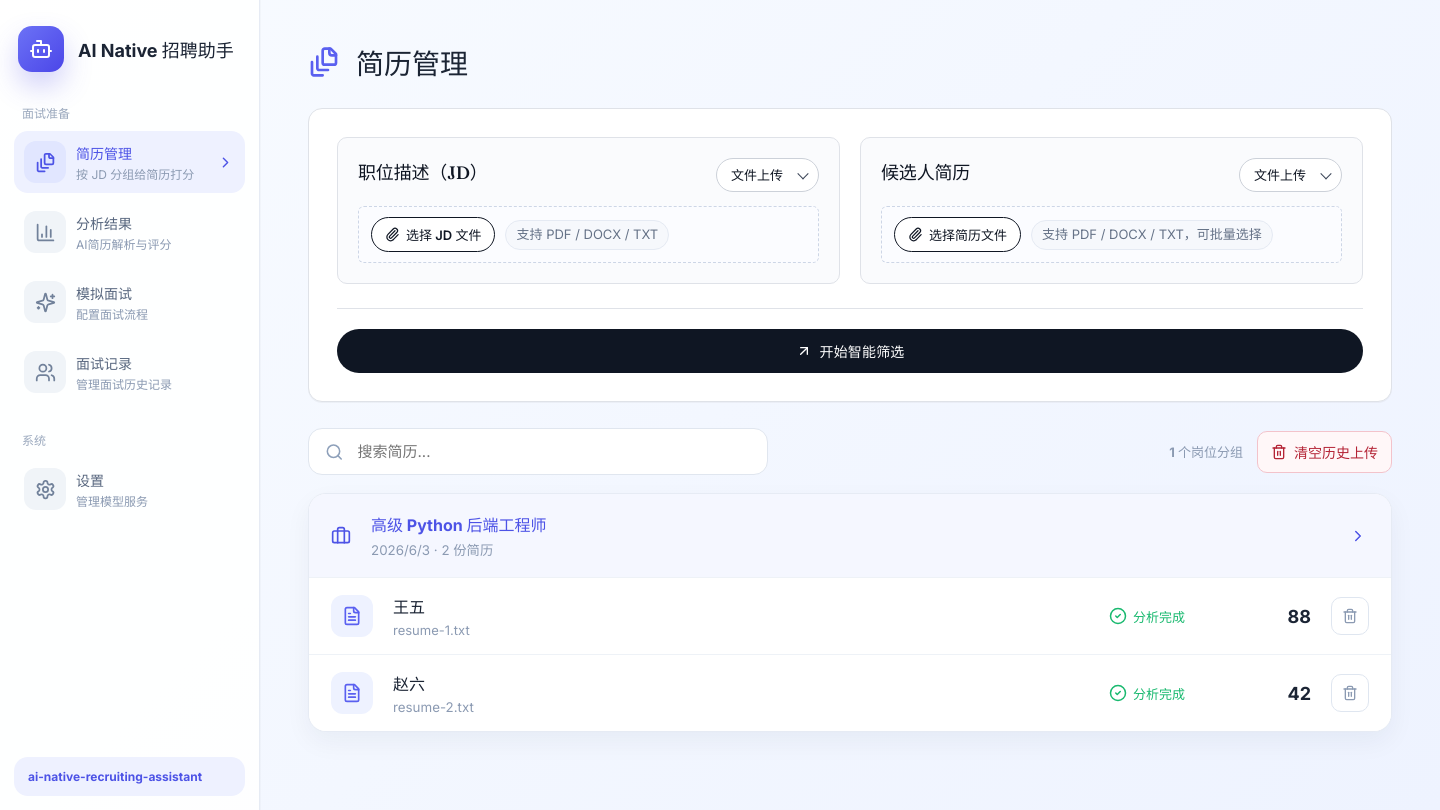
Test case: App › clears all resume uploads from resumes workspace
The image size is (1440, 810).
Expected: the button "高级 Python 后端工程师 2026/6/3 · 2 份简历" is shown, [309,494,1391,577]
Click the button "清空历史上传" at {"x": 1324, "y": 452}, box [1257,430,1392,472]
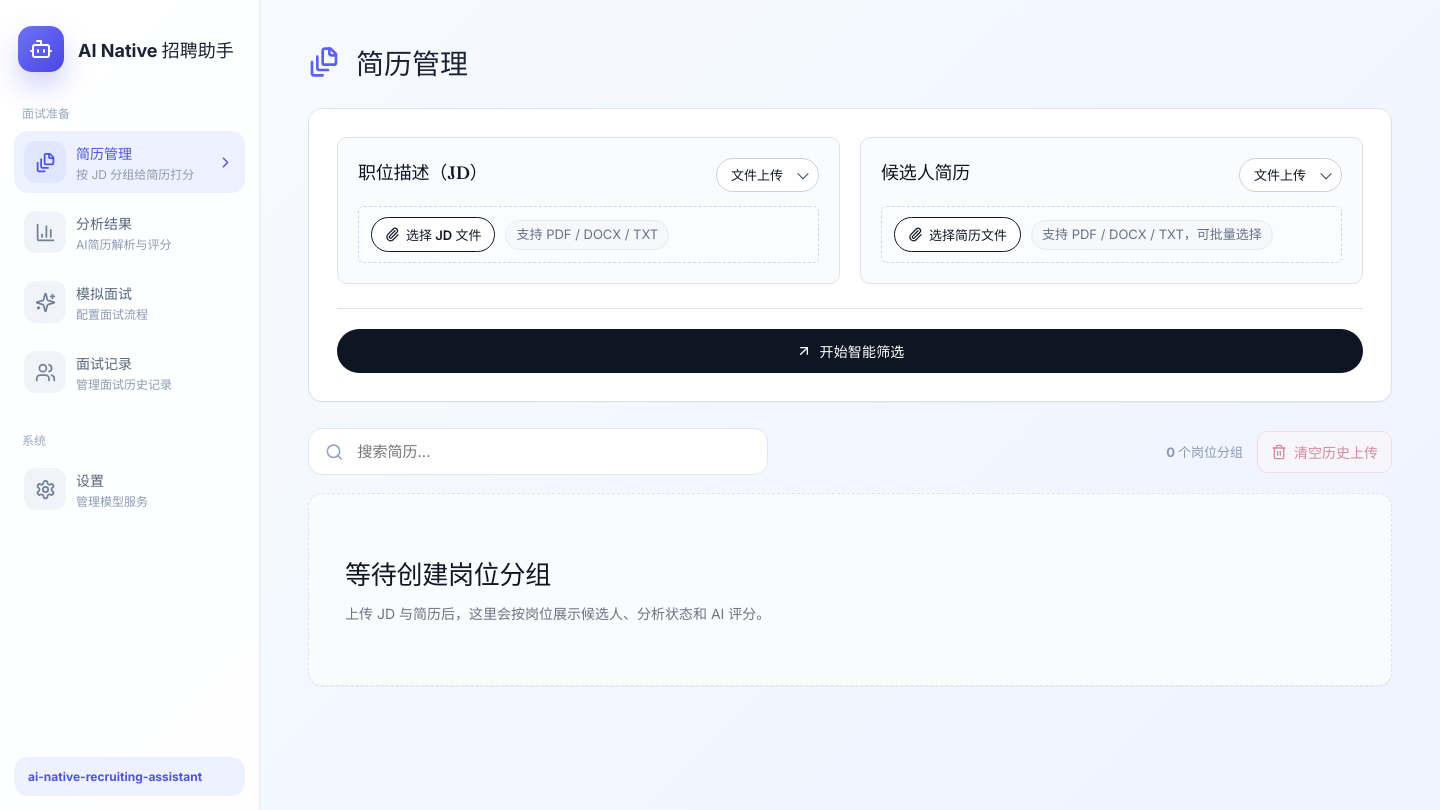
Result: the heading "等待创建岗位分组" is shown at [345,554,551,591]
